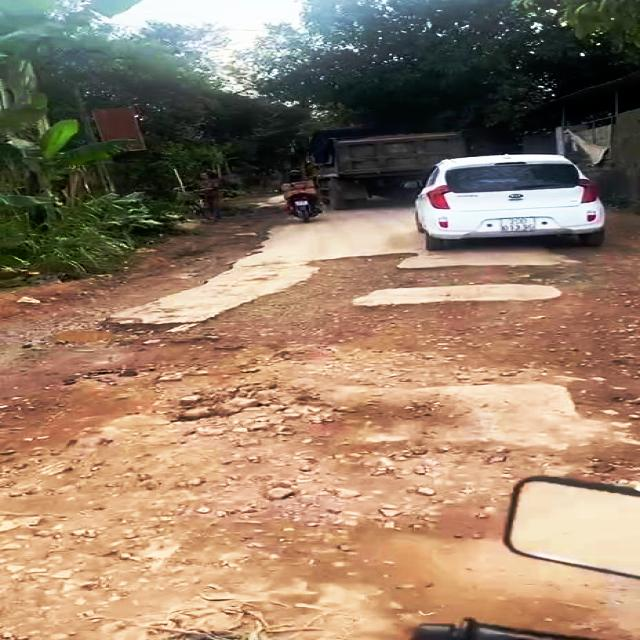pothole: (17, 311, 473, 531), (170, 248, 456, 396), (454, 258, 640, 427)
